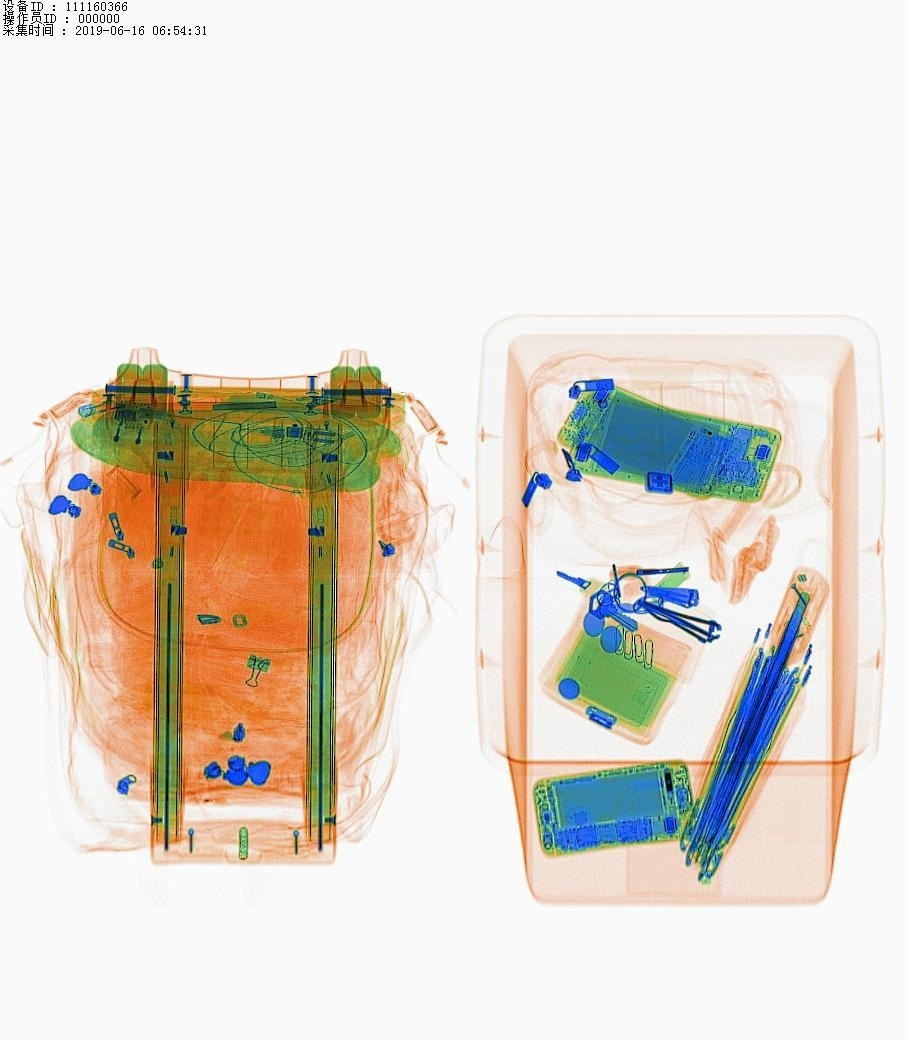NonmetallicFire: (66, 381, 179, 444)
